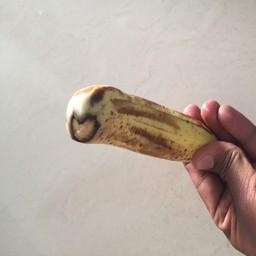Bad_banana: (65, 81, 221, 172)
